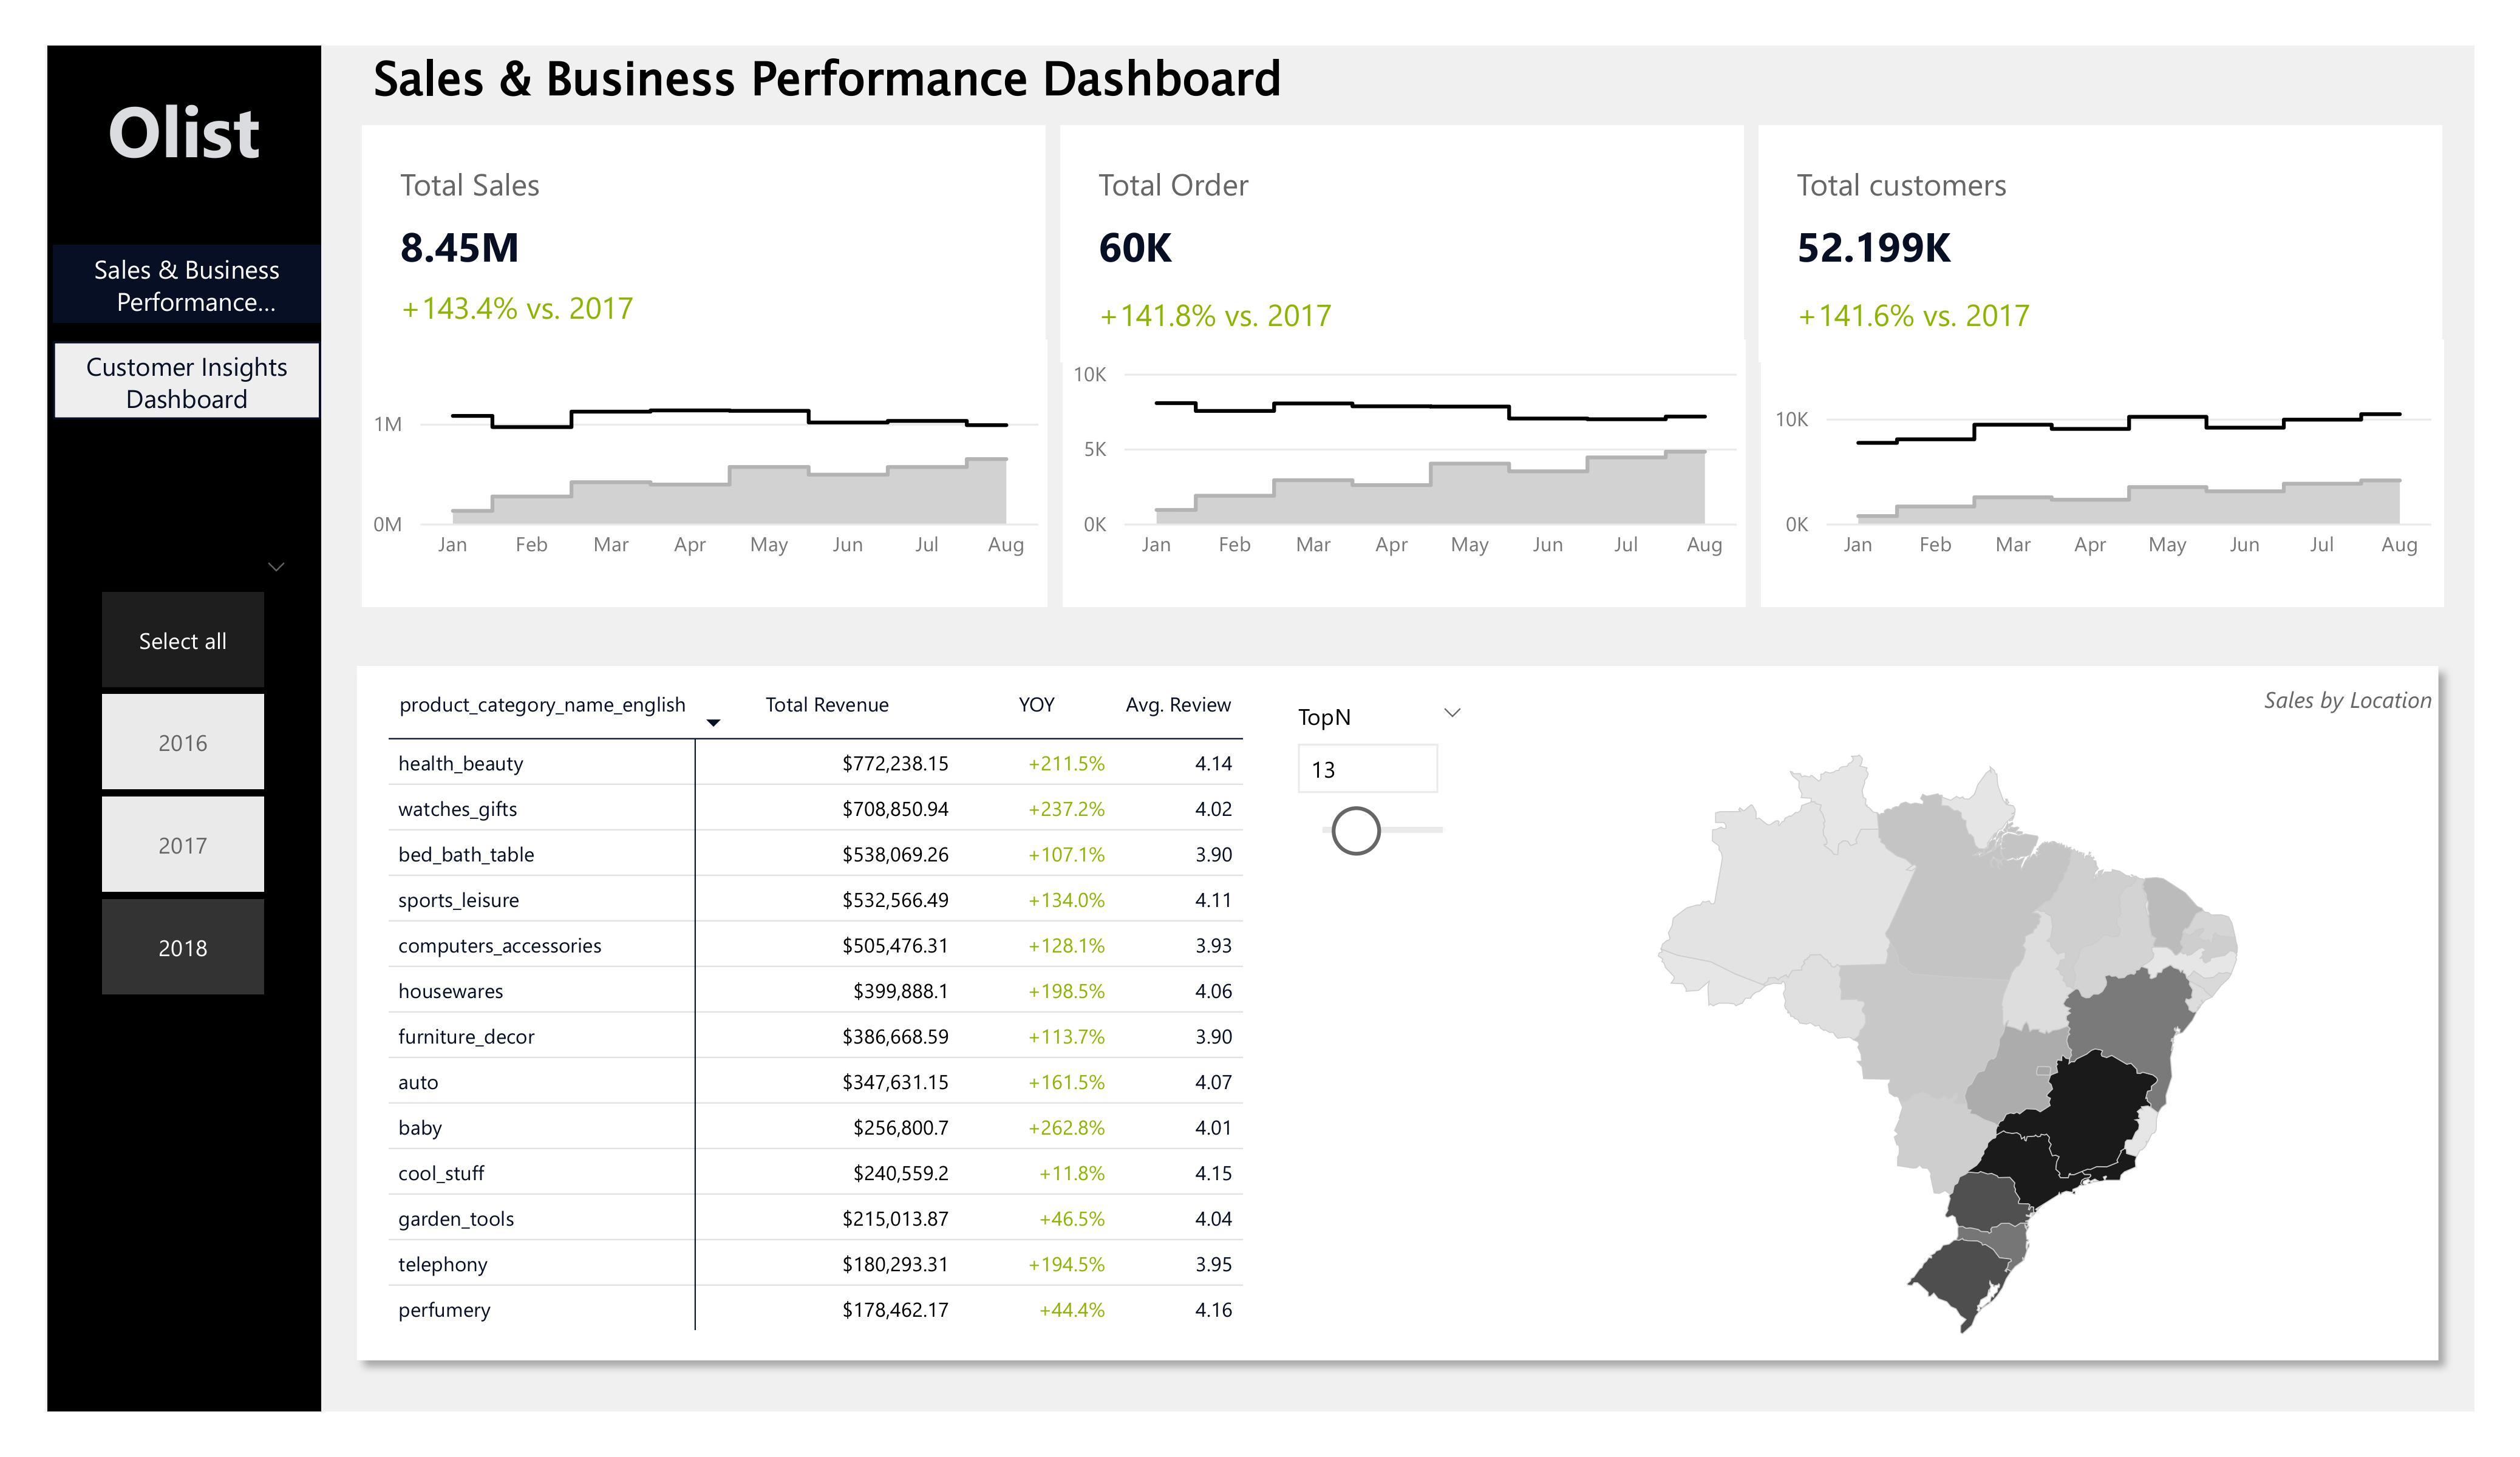

Layout of this report page (visuals, bound fields, positions):
{"tool":"powerbi","page":{"name":"Sales & Business Performance Dashboard","canvas":[1280,720],"ordinal":0},"visuals":[{"type":"shape","box":[1,0,144.4,720],"z":0},{"type":"shape","box":[154.5,317.9,1115.1,383.7],"z":1000},{"type":"pivotTable","fields":{"Values":["Sum(products.total_revenue)","All Measures.format yoy","Avg(products.avg_review_score)"],"Rows":["products.product_category_name_english"]},"box":[176,329.7,485.3,357.9],"z":2000},{"type":"shapeMap","title":"Sales by Location","fields":{"Value":["Sum(Region.total_sales)"],"Category":["Region.Custom"]},"box":[742,336.3,520.7,364.4],"z":3000},{"type":"slicer","fields":{"Values":["TopN.TopN"]},"box":[647.1,339.8,111.5,90.4],"z":4000},{"type":"shape","title":"Sales & Business Performance Dashboard","box":[172.7,0,1092.7,37.1],"z":5000},{"type":"slicer","fields":{"Values":["Date.Year"]},"box":[3.9,263.4,135,244],"z":6000},{"type":"cardVisual","fields":{"Data":["All Measures.Total Sales","All Measures.Total Order","All Measures.Total customers"]},"box":[162.4,36.9,1107.2,135.2],"z":7000},{"type":"lineChart","fields":{"Y":["All Measures.Total Order","All Measures.Orders PY"],"Category":["Date.MonthName"]},"box":[535.6,155.4,360,140.5],"z":8000},{"type":"stackedAreaChart","fields":{"Y":["All Measures.Customers PY","All Measures.Total customers"],"Category":["Date.MonthName"]},"box":[903.5,155.4,360,140.5],"z":9000},{"type":"lineChart","fields":{"Y":["All Measures.Total Sales","All Measures.Sales PY"],"Category":["Date.MonthName"]},"box":[166.8,155.4,360.9,140.5],"z":10000},{"type":"pageNavigator","box":[4,105,141,93],"z":11000}]}

Visuals, with their boxes on the page's 1280x720 design canvas (x1, y1, x2, y2). These are canvas units, not pixel positions in the 2520x1457 screenshot, which may show the page scaled, cropped or inside an application window:
shape: rect(1, 0, 145, 720)
shape: rect(154, 318, 1270, 702)
pivotTable - Sum(products.total_revenue) x All Measures.format yoy: rect(176, 330, 661, 688)
"Sales by Location" shapeMap: rect(742, 336, 1263, 701)
slicer - TopN.TopN: rect(647, 340, 759, 430)
"Sales & Business Performance Dashboard" shape: rect(173, 0, 1265, 37)
slicer - Date.Year: rect(4, 263, 139, 507)
cardVisual - All Measures.Total Sales x All Measures.Total Order: rect(162, 37, 1270, 172)
lineChart - All Measures.Total Order x All Measures.Orders PY: rect(536, 155, 896, 296)
stackedAreaChart - All Measures.Customers PY x All Measures.Total customers: rect(904, 155, 1264, 296)
lineChart - All Measures.Total Sales x All Measures.Sales PY: rect(167, 155, 528, 296)
pageNavigator: rect(4, 105, 145, 198)
